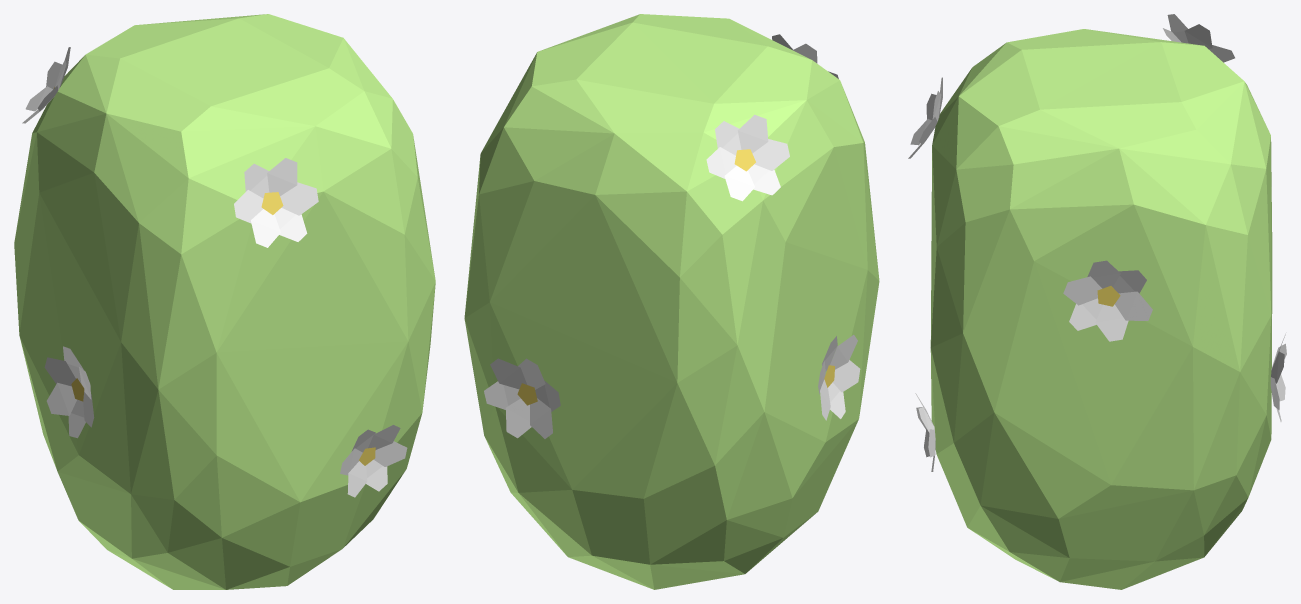
Rendered from FlowerBush_a_m_01.fbx.
3 views of the same model, side by side, from view 1: azimuth 30°, elevation 25°; view 2: azimuth 150°, elevation 25°; view 3: azimuth 270°, elevation 25° (orthographic). The views are drawn at different scales.
Visible parts, largest first — view 1: FlowerBush_a_m_01; view 2: FlowerBush_a_m_01; view 3: FlowerBush_a_m_01.
Boxes of the visible parts, x1,y1,x2,y2 form: FlowerBush_a_m_01: (14,14,435,589); FlowerBush_a_m_01: (464,14,879,589); FlowerBush_a_m_01: (908,14,1286,589).
Size of the model in its own units: 134 by 202 by 138.
